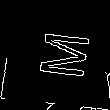M_W: (24, 28, 86, 82)
